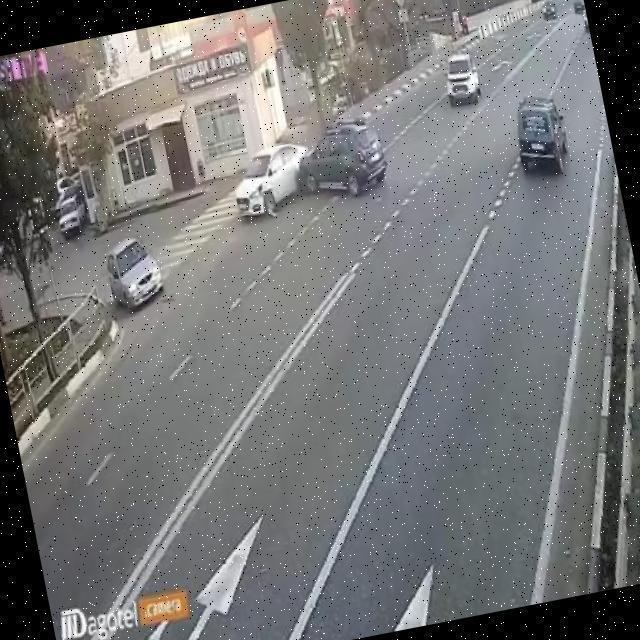accident: (251, 124, 345, 212)
